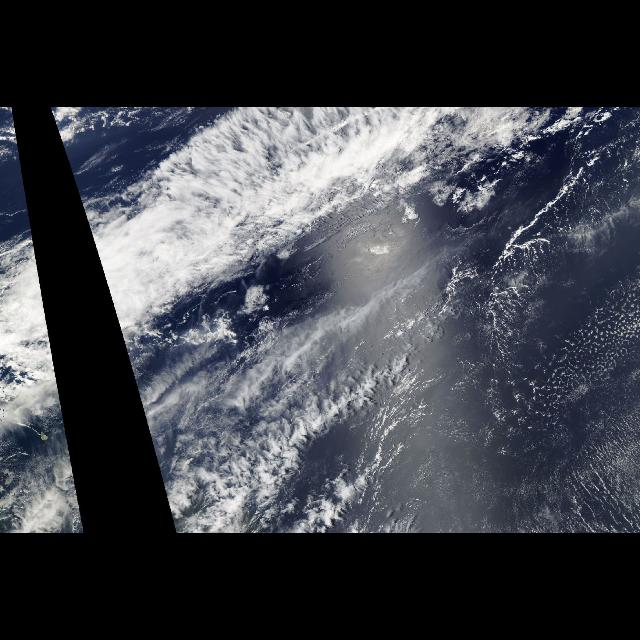Fish: (49, 108, 524, 416), (1, 108, 64, 416)
Gravel: (530, 300, 640, 392)
Sugar: (497, 261, 639, 533)
